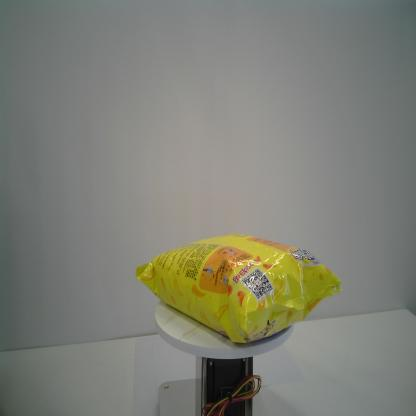Puffed Food: (134, 232, 343, 346)
